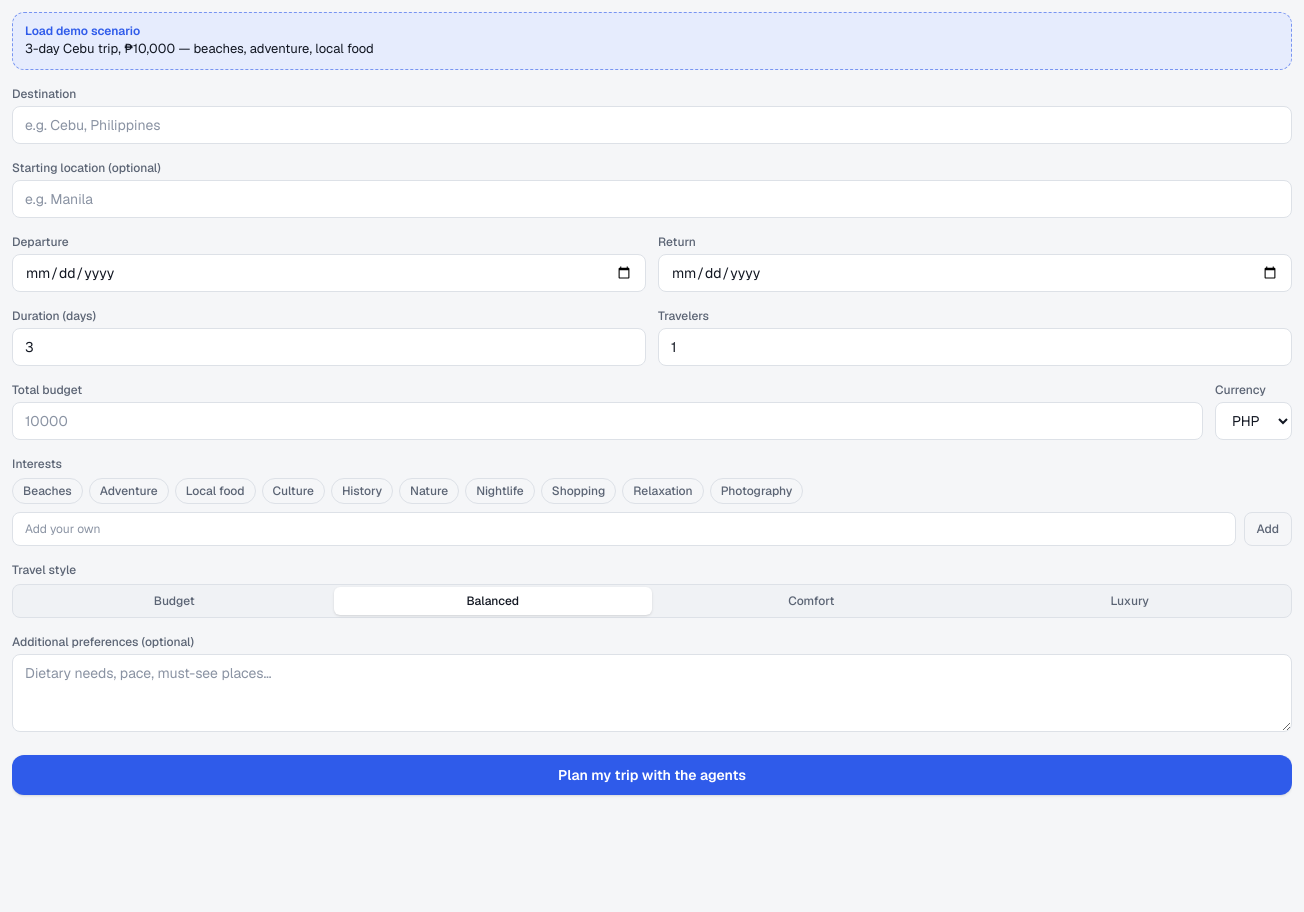
Test: TripForm › shows validation errors and does not submit an empty form
Click the button "Plan my trip with the agents".
click(652, 774)  # box [12,754,1292,794]
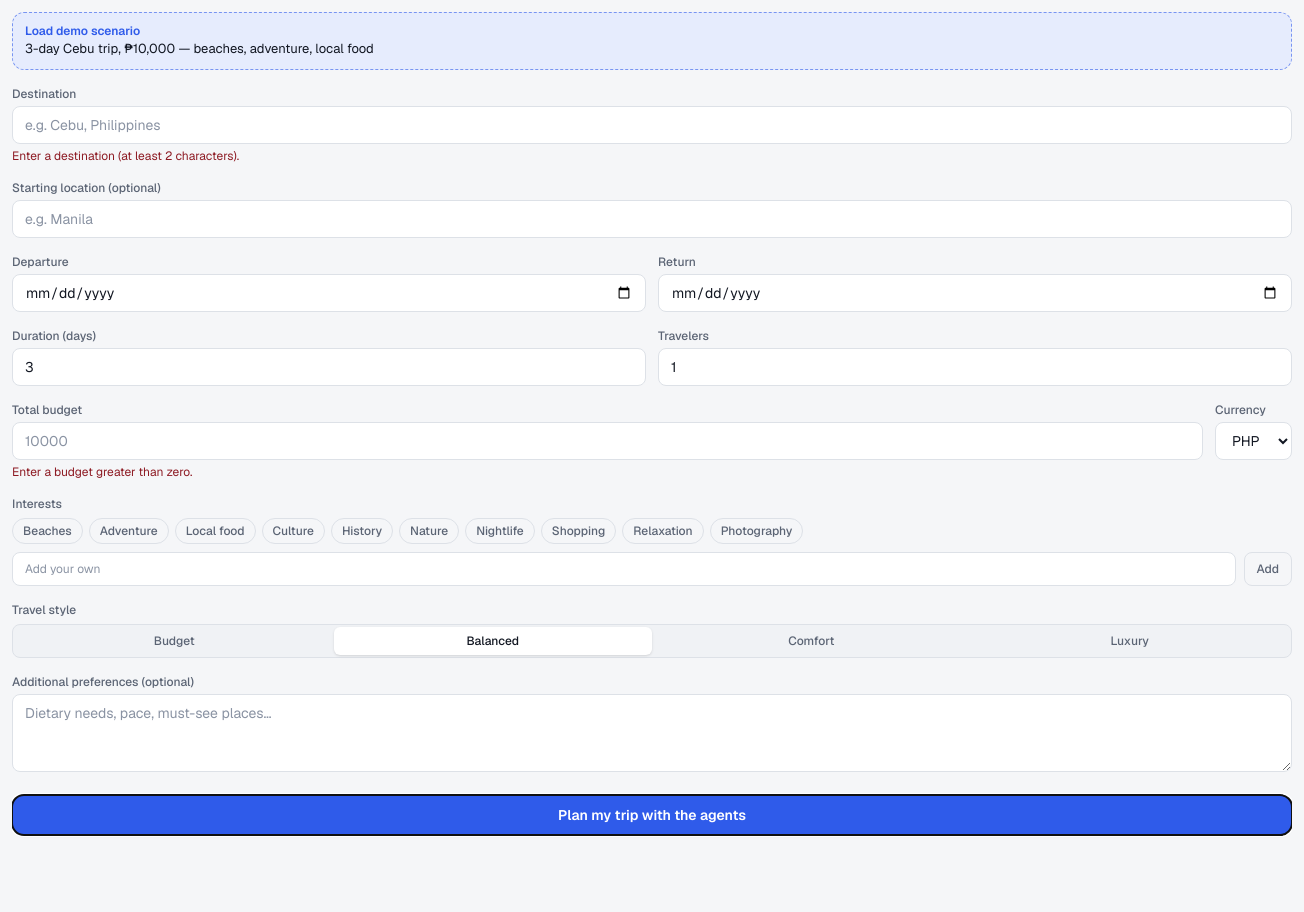
Expected: the text "Enter a destination (at least 2 characters)." is shown, [12,148,239,164]
Expected: the text "Enter a budget greater than zero." is shown, [12,464,192,480]
